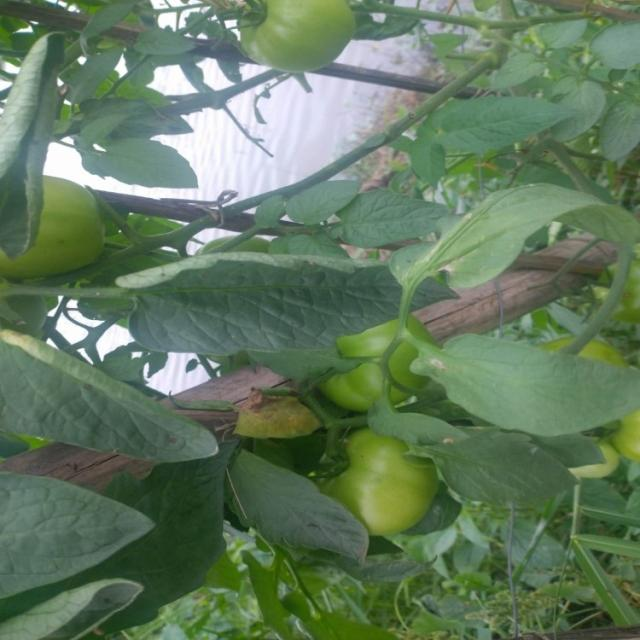tomato: (317, 423, 425, 528), (6, 171, 113, 274), (309, 326, 438, 410), (237, 1, 357, 77), (588, 258, 640, 334), (583, 413, 640, 469), (551, 331, 624, 368)
